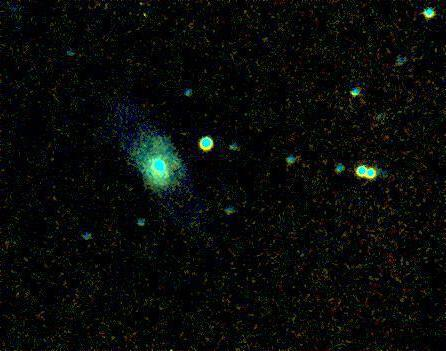star: (155, 155, 185, 185)
